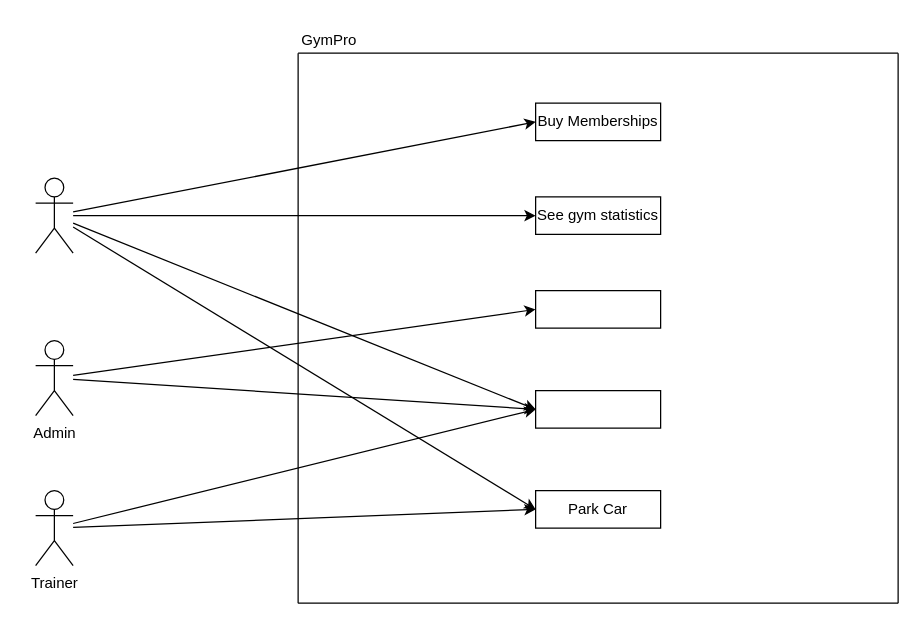
The diagram is 921 pixels wide and 626 high, and some of its shapes have lost their labels. The shapes that lost their labels are listed below. From the top down, each one's box as (x1, y1, x2, y2) in pixels, then its label:
(34, 177, 73, 253): Customer
(534, 289, 661, 328): View and manage all customers
(534, 389, 661, 428): Book sessions
